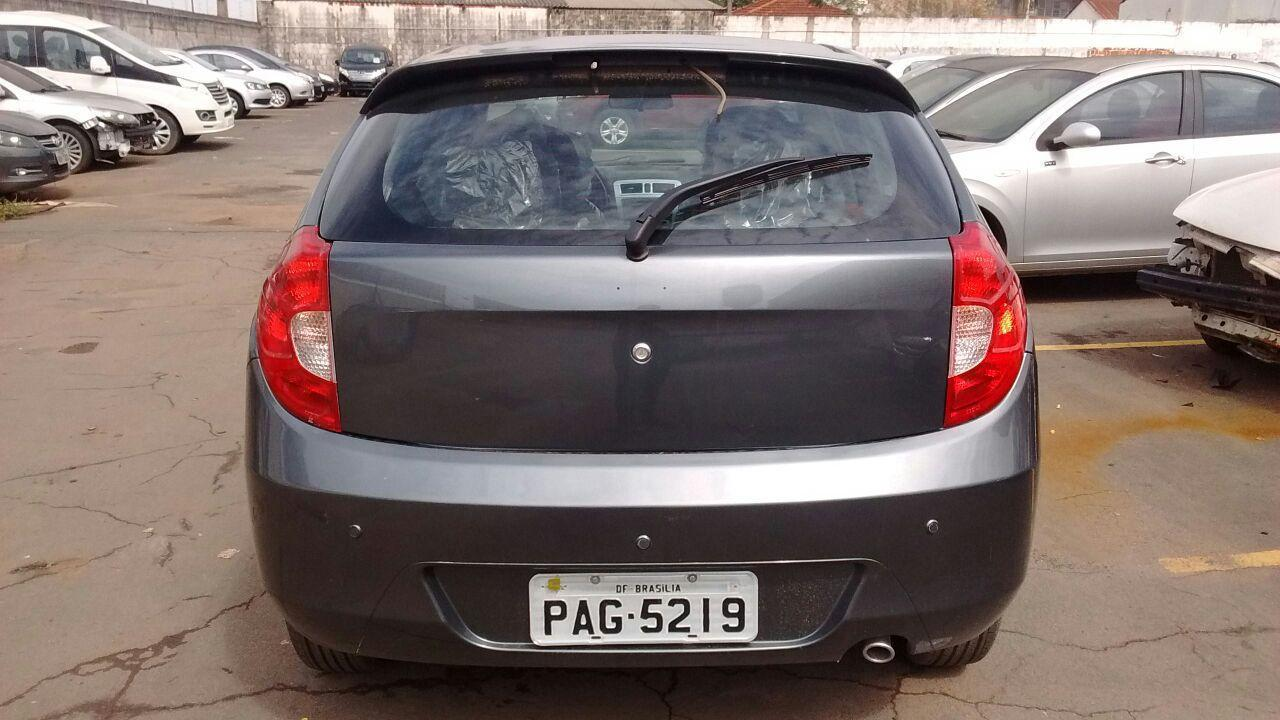placa de veiculo: (517, 552, 793, 669)
